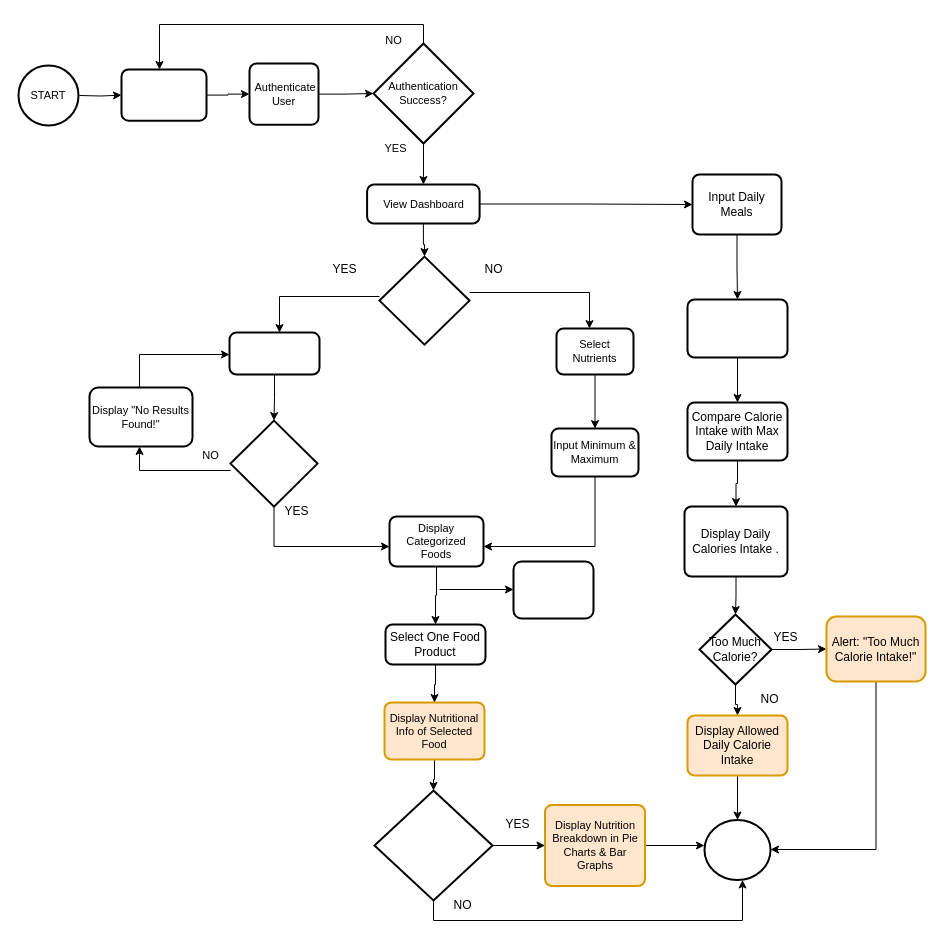
The diagram is 943 pixels wide and 946 high, and some of its shapes have lost their labels. Each missing label, with the box of its shape:
Calculator Calculate Daily Intake Calories: (686, 298, 788, 358)
END / Log Out: (703, 818, 771, 880)
Food Categories Found?: (229, 419, 318, 507)
Input username & password: (120, 68, 207, 121)
Nutrients Level Filter: (512, 560, 594, 619)
Opt to Display Charts and Graphs?: (373, 789, 493, 901)
Search Food: (228, 331, 320, 375)
Search for Food?: (378, 255, 470, 345)
